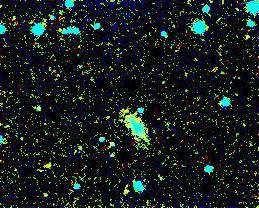star: (33, 151, 63, 181)
